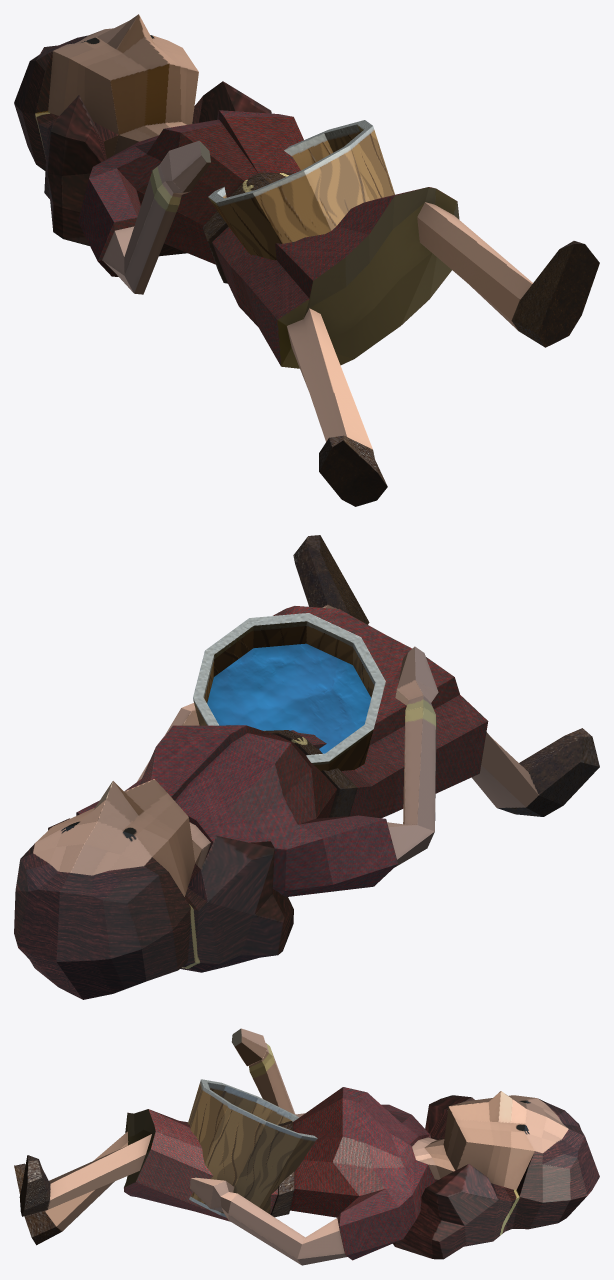
The model's file is Walk_Aldeana_16.obj.
The picture shows the model from 3 angles, top to bottom: view 1: azimuth 30°, elevation 25°; view 2: azimuth 150°, elevation 25°; view 3: azimuth 270°, elevation 25°; orthographic projection. The views are drawn at different scales.
Visible parts, largest first — view 1: Aldeana.001; view 2: Aldeana.001; view 3: Aldeana.001.
Part boxes in pixels (x1=…): Aldeana.001: x1=14, y1=14, x2=599, y2=506; Aldeana.001: x1=14, y1=535, x2=599, y2=999; Aldeana.001: x1=14, y1=1028, x2=599, y2=1265.
Size of the model in its own units: 1.06 by 0.893 by 2.35.
